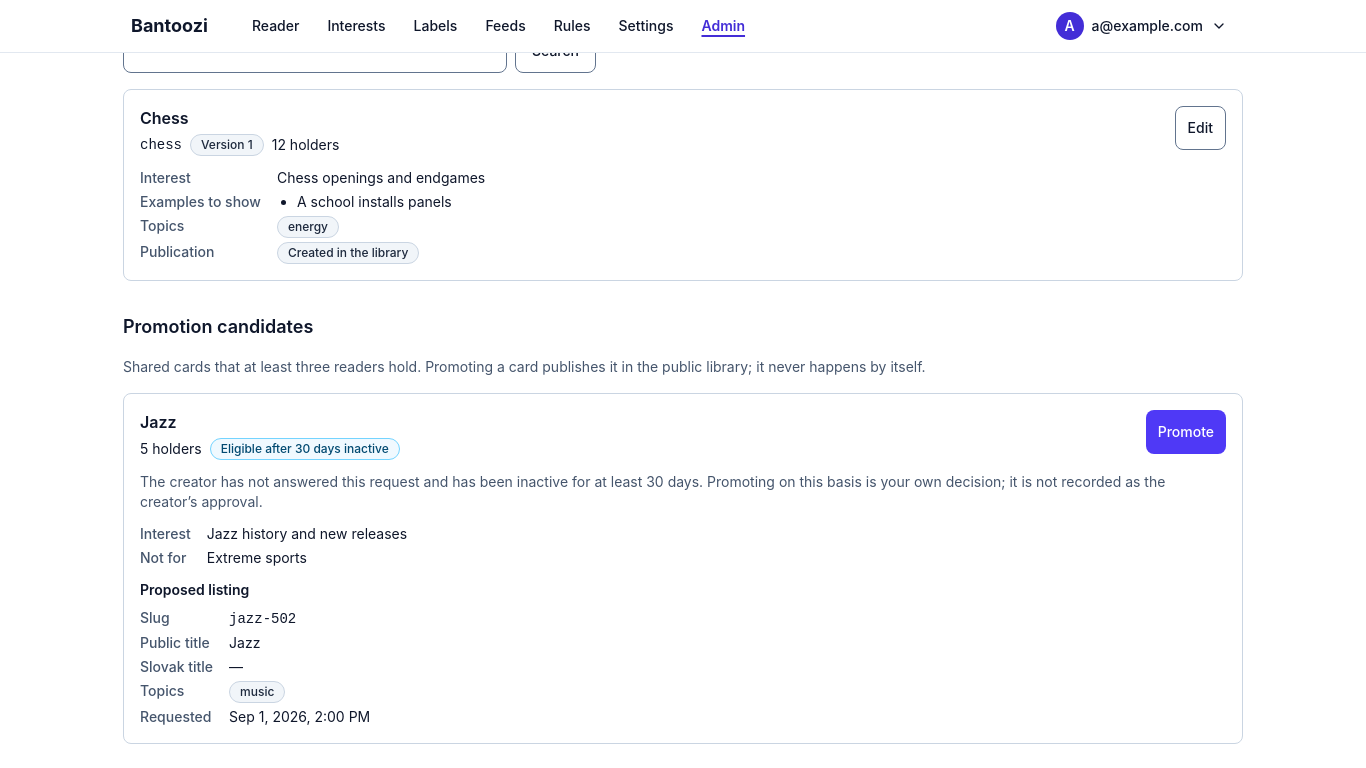
Scenario: admin library (spec 09 §8) › promoting › keeps the confirmation open with the error when the request itself failed
The image size is (1366, 768).
(page scrolled)
Expected: the heading "Promotion candidates" is shown, [123,316,313,337]
Click the button with aria-label "Promote Jazz". click: coordinates (1186, 432)
box: [1146,410,1226,454]
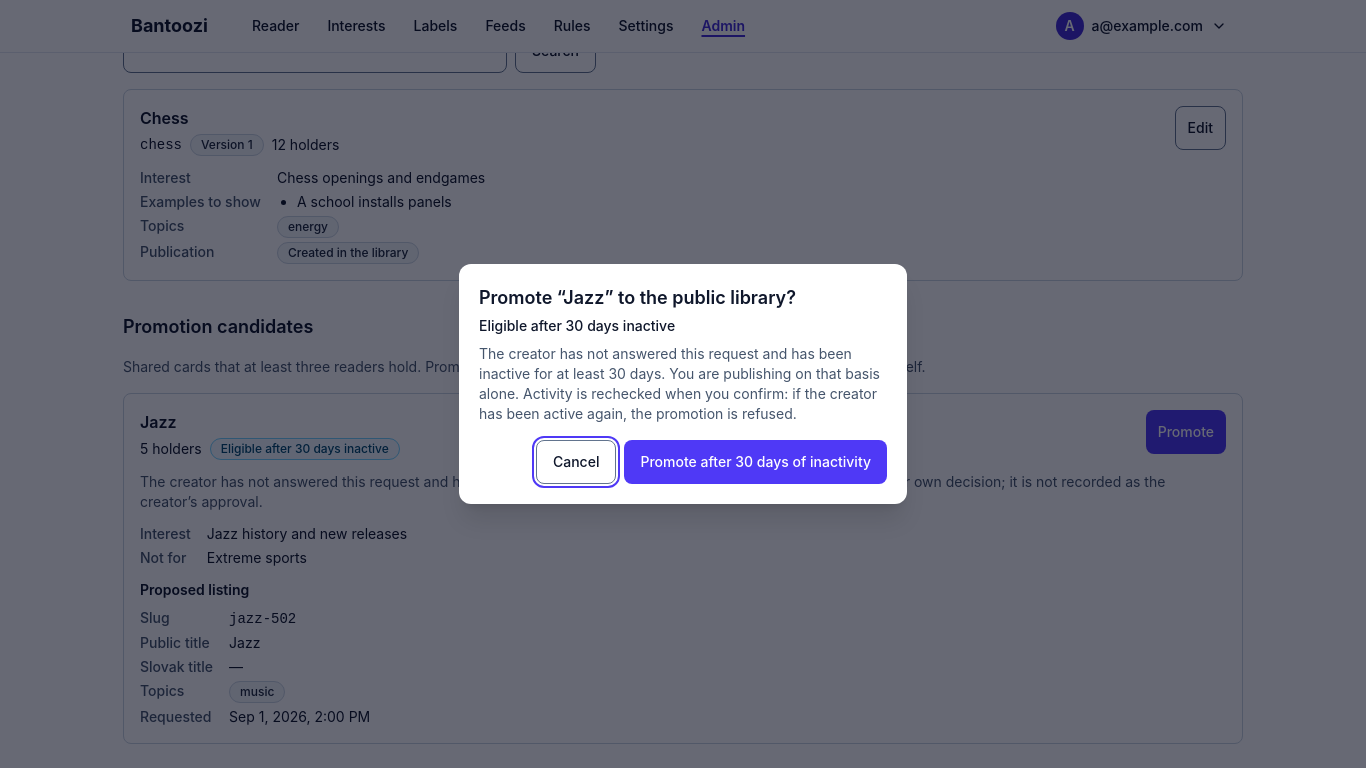
Click the button "Promote after 30 days of inactivity". click: coordinates (756, 462)
box: [624,440,887,484]
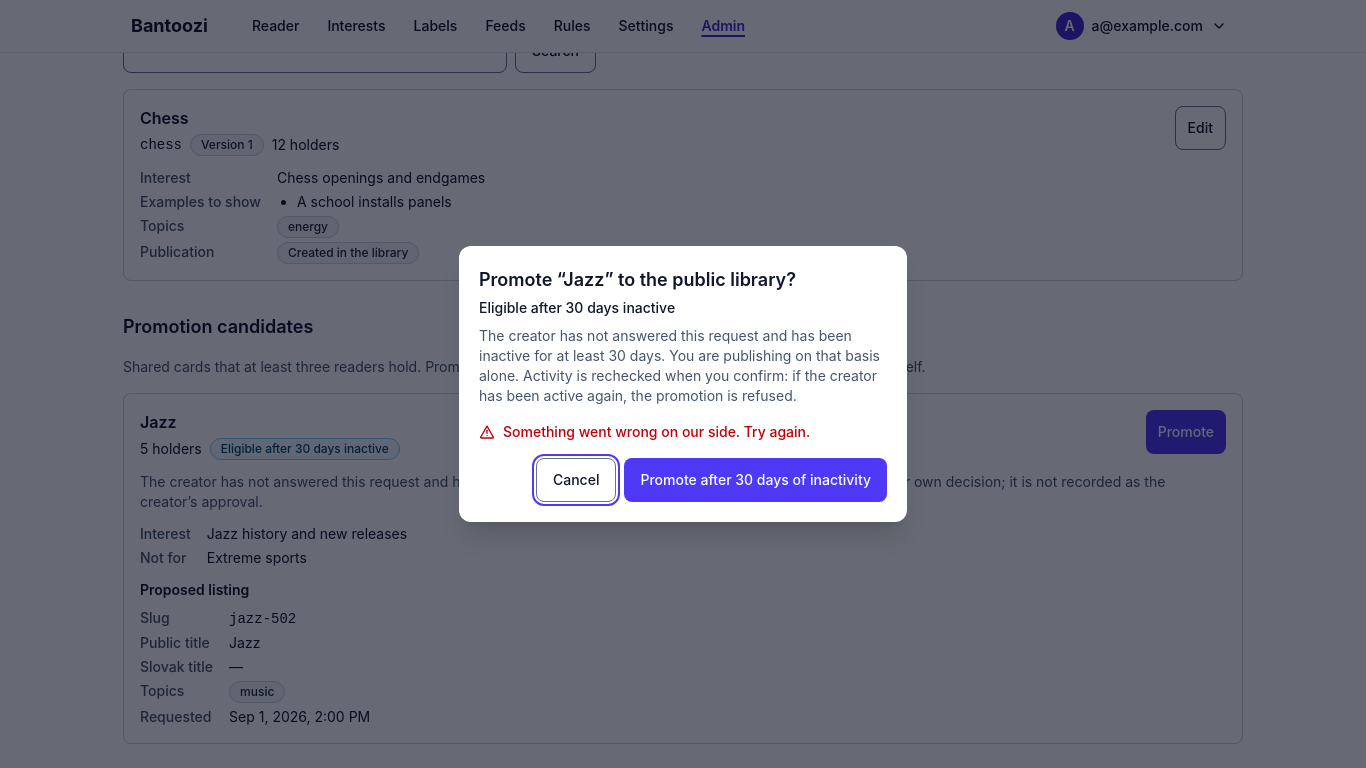
Now the dialog is shown, box [459,246,907,522]
Now the message "Something went wrong on our side. Try again." is shown, box [479,423,810,440]
